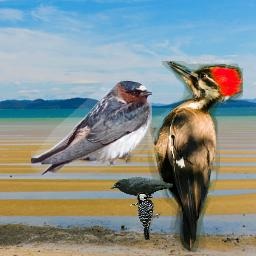Crow: (110, 177, 173, 206)
Swallow: (31, 80, 152, 177)
Woodpecker: (145, 61, 243, 252), (136, 191, 161, 240)
